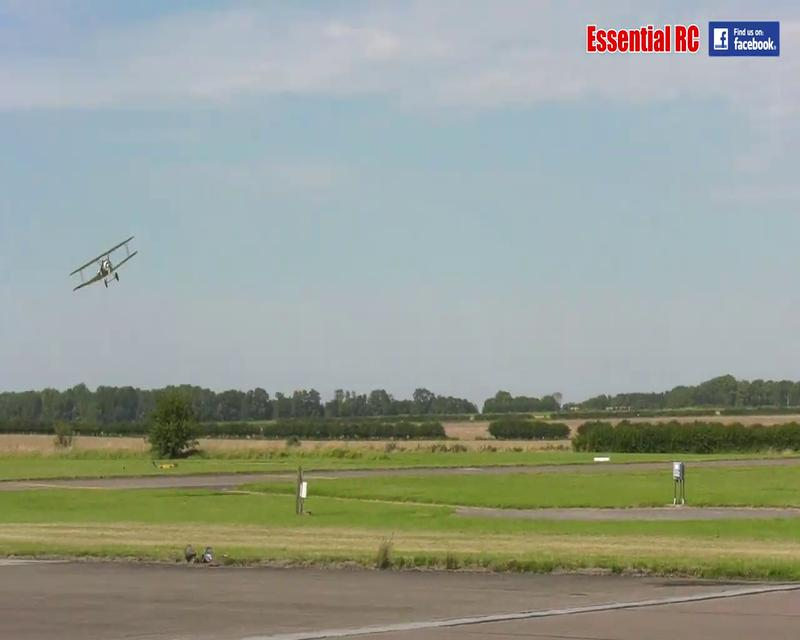UAV: (68, 236, 140, 293), (585, 22, 700, 53)
